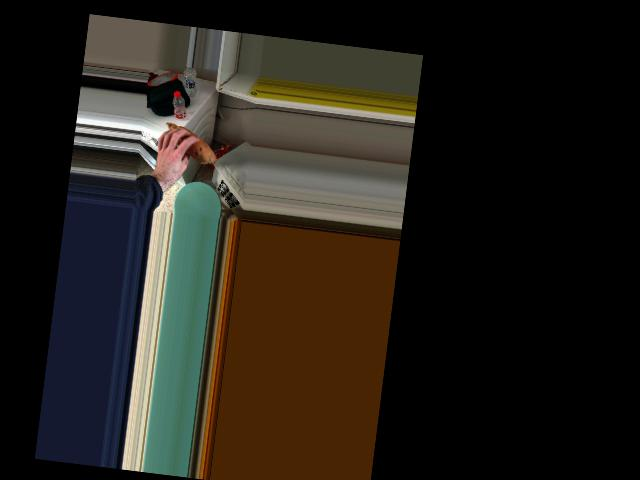sweet_potato: (159, 124, 217, 165)
